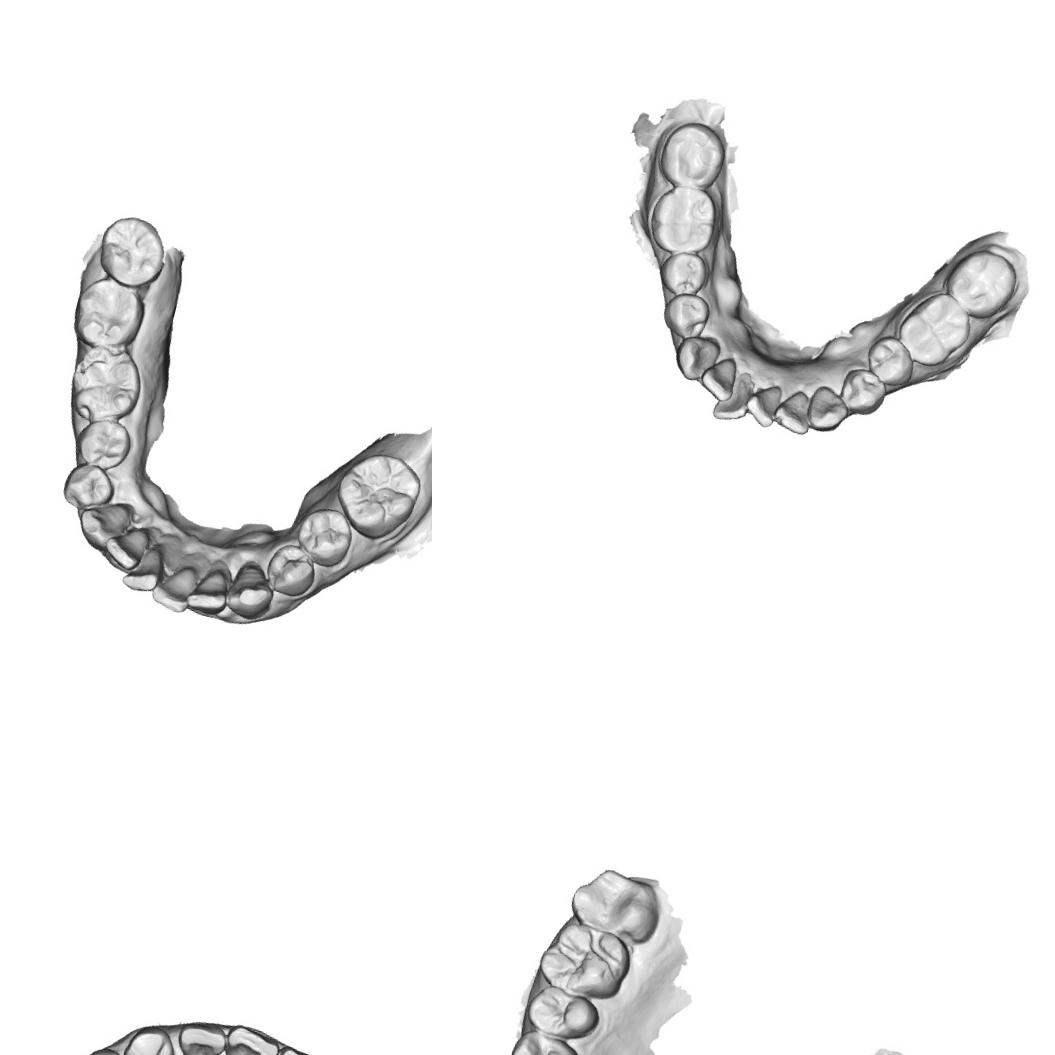canine: (72, 491, 137, 557), (220, 556, 280, 624), (668, 330, 722, 386), (802, 381, 853, 437), (116, 1018, 181, 1055)
incisor: (147, 558, 201, 616), (118, 540, 170, 596), (100, 517, 152, 573), (182, 564, 233, 620), (710, 365, 756, 426), (695, 349, 741, 403), (770, 385, 816, 436), (172, 1015, 230, 1055), (740, 378, 784, 430), (218, 1020, 282, 1055), (267, 1042, 333, 1055)
molar: (530, 911, 639, 1008), (326, 443, 426, 547), (560, 856, 666, 947), (60, 336, 150, 432), (890, 283, 978, 374), (65, 266, 152, 356), (938, 242, 1023, 326), (91, 209, 173, 294), (642, 178, 723, 263), (653, 113, 732, 195)
premolar: (514, 977, 605, 1048), (290, 500, 358, 572), (67, 412, 136, 474), (260, 539, 325, 601), (57, 458, 121, 516), (860, 330, 920, 391), (652, 244, 712, 302), (834, 363, 890, 420), (658, 287, 712, 343), (498, 1023, 588, 1055), (71, 1040, 142, 1055)
